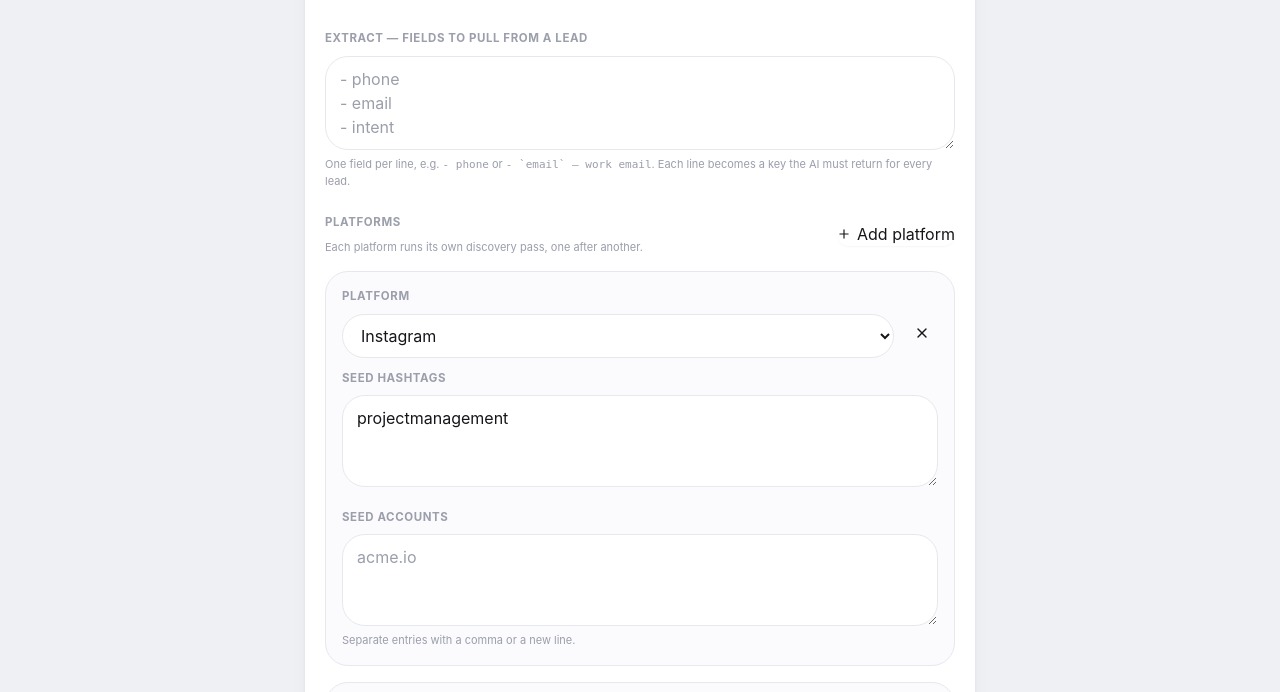
Test: CampaignForm — multi-platform UI (Phase 6) › removing a SEEDED channel opens a confirm dialog
(page scrolled)
Step 1. Click the button named "Remove Instagram channel" → (922, 333), box [906,317,938,349]
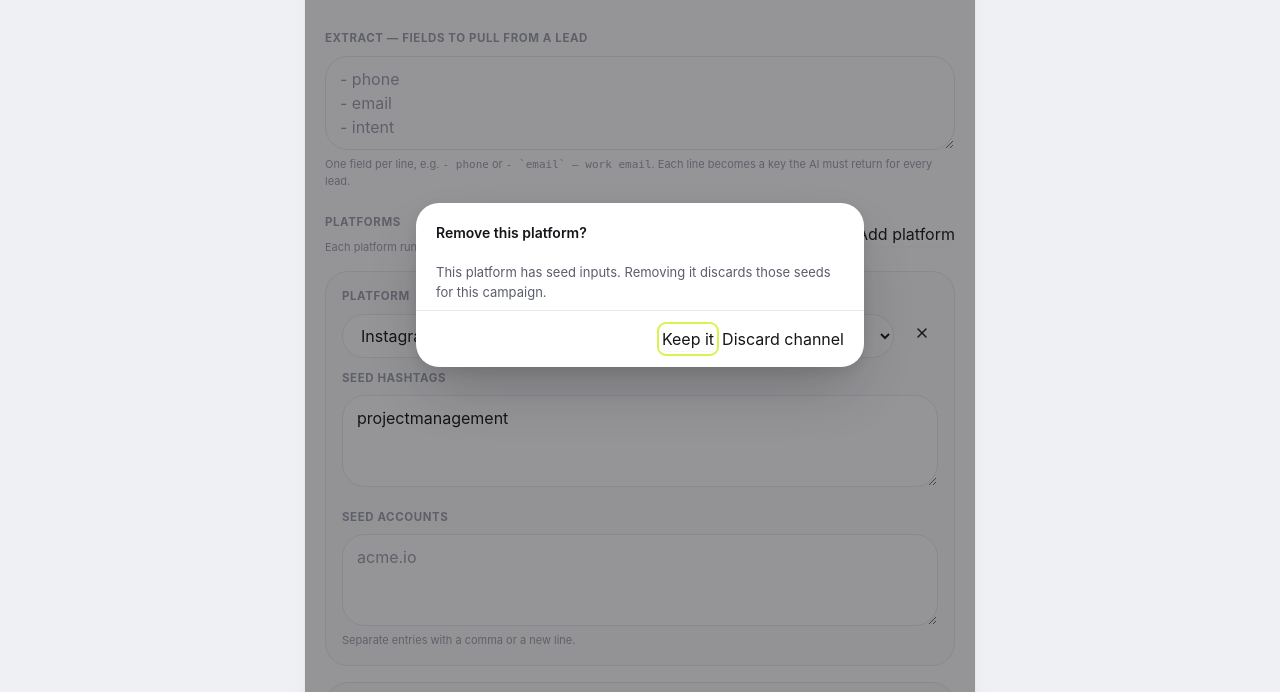
Result: the dialog is shown at [416,203,864,367]
Result: the heading "Remove this platform?" is shown at [436,224,587,241]
